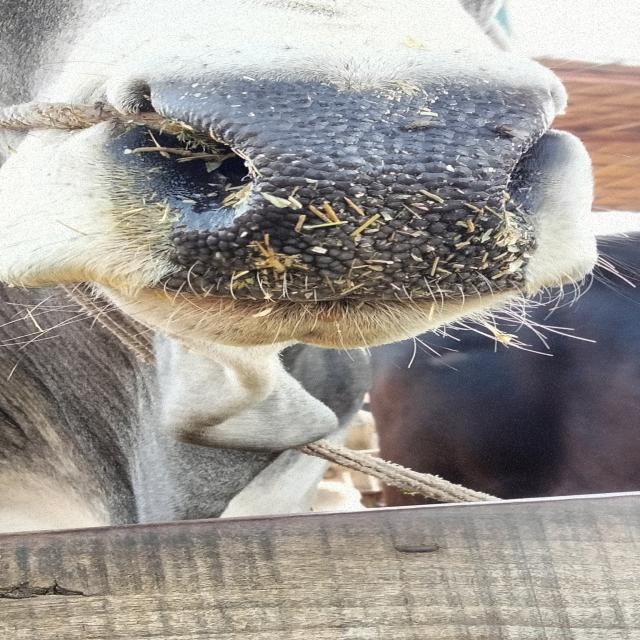muzzles: (87, 54, 575, 310)
